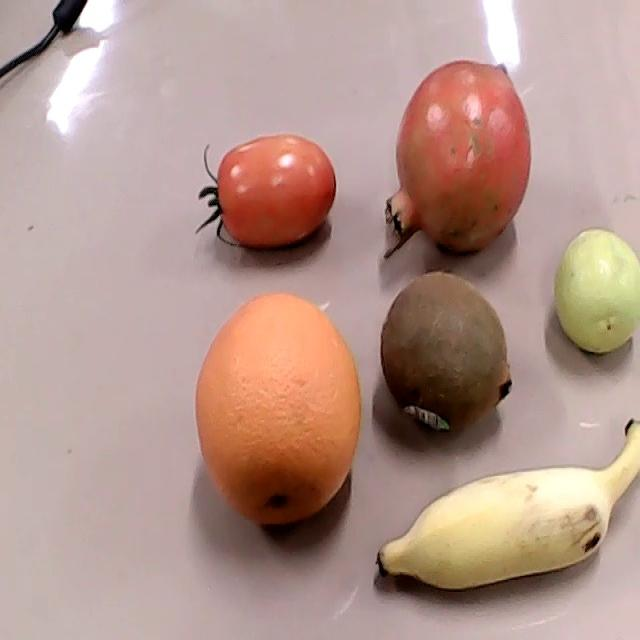kiwi: (378, 272, 513, 436)
lemon: (553, 227, 639, 354)
orange: (196, 295, 361, 524)
pomegranate: (383, 63, 530, 259)
tomato: (195, 132, 335, 247)
